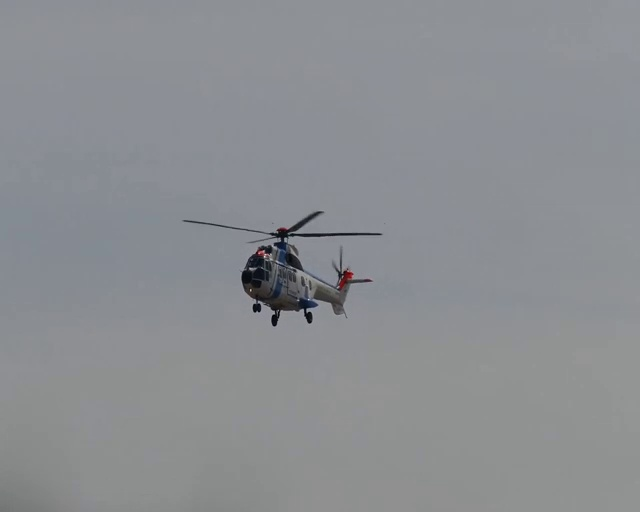HELICOPTER: (181, 209, 385, 327)
